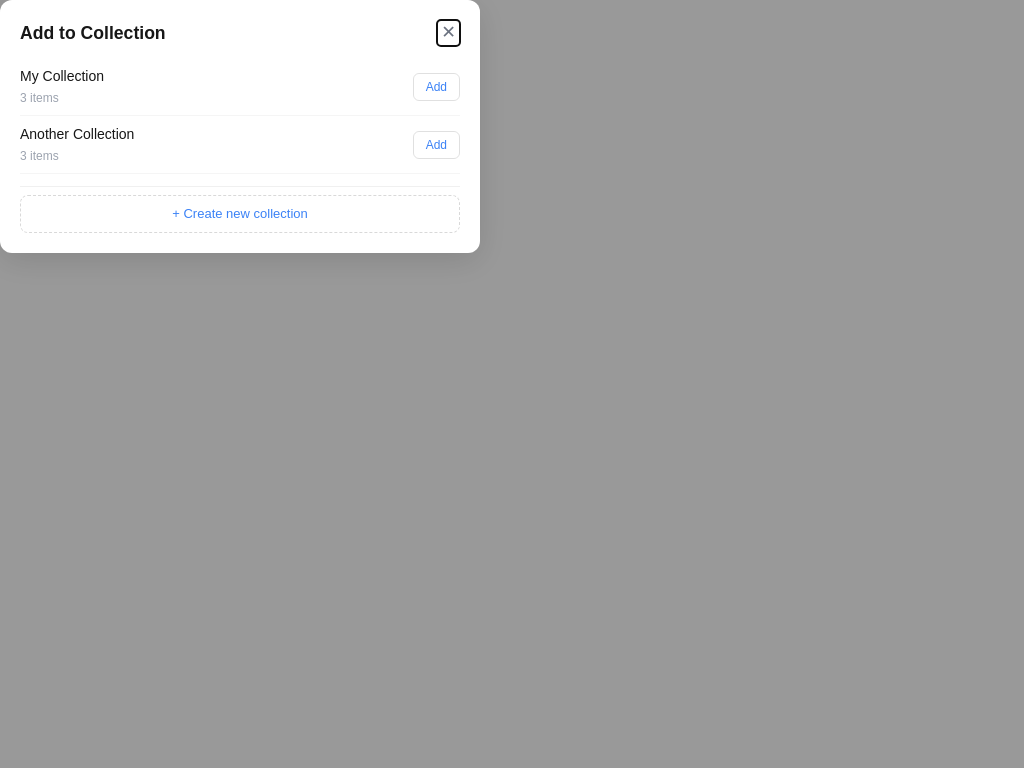
Scenario: CollectionPickerDialog › validates empty name on create collection
The image size is (1024, 768).
Expected: the text "My Collection" is shown, [20,66,104,87]
Click the button "+ Create new collection" at x=240, y=214, box [20,195,460,233]
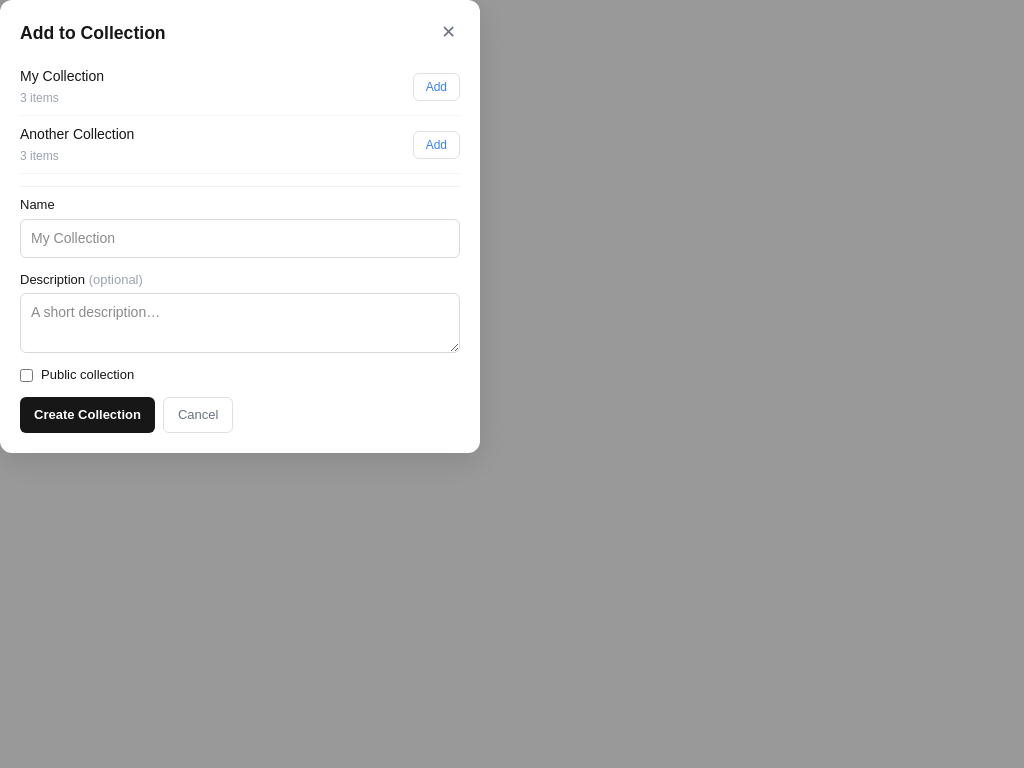
// Submit without filling name
Click the button "Create Collection" at x=87, y=415, box [20,397,155,433]
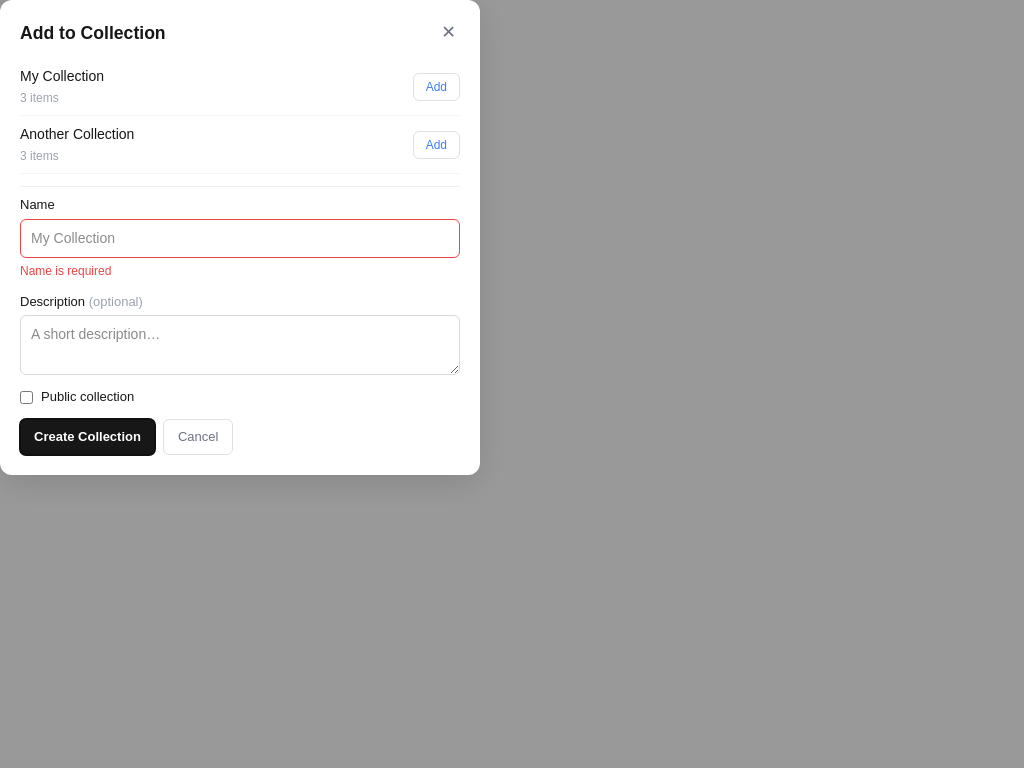
Expected: the text "Name is required" is shown, [20,264,111,278]
